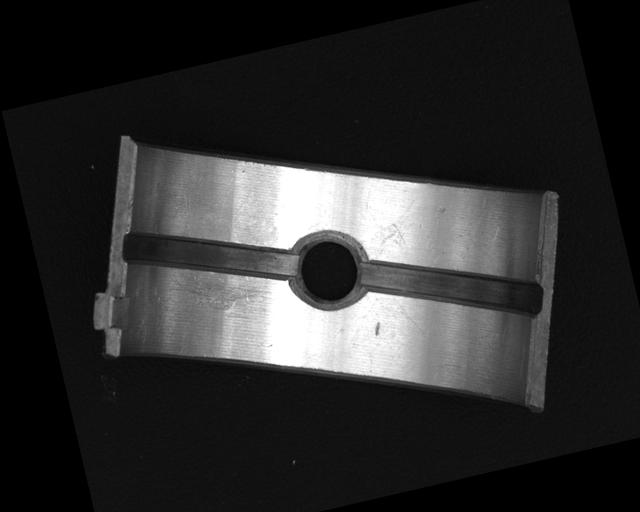bruise: (371, 320, 383, 338)
gap: (358, 225, 545, 352), (118, 197, 299, 310)
hole: (283, 224, 374, 316)
scratch: (166, 255, 273, 325)
